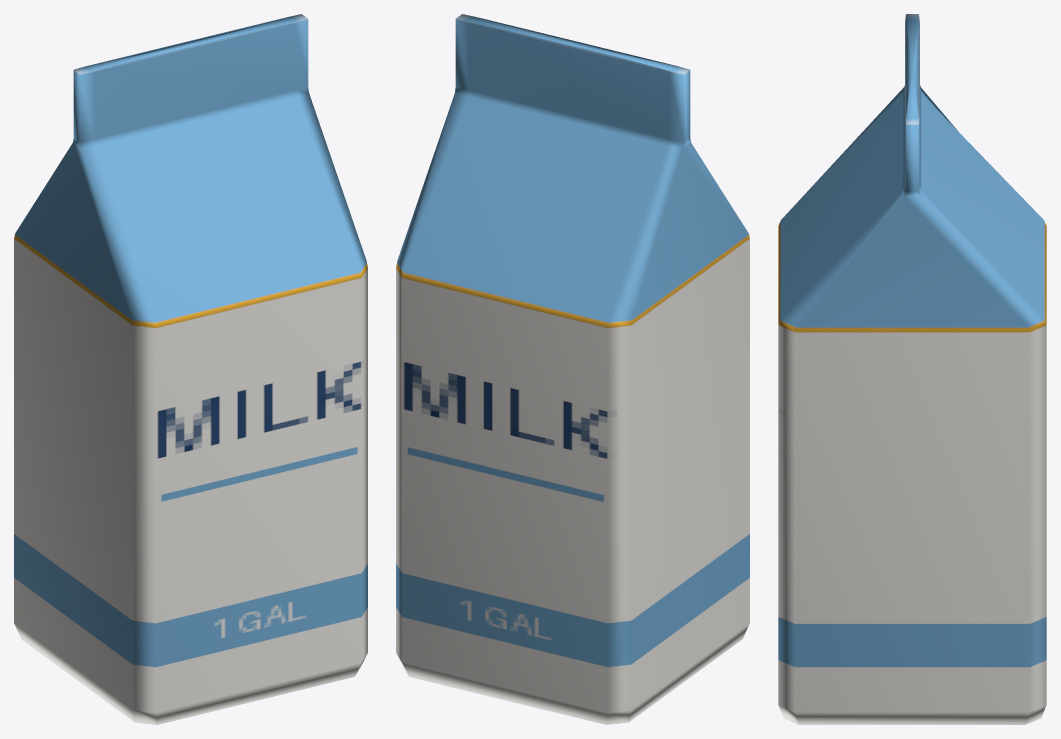
The model's file is milk_carton.obj.
3 renders of one model, left to right at view 1: azimuth 30°, elevation 25°; view 2: azimuth 150°, elevation 25°; view 3: azimuth 270°, elevation 25°, orthographic.
Visible parts, largest first — view 1: milk_carton; view 2: milk_carton; view 3: milk_carton.
Boxes of the visible parts, <box> form: milk_carton: <box>14,14,367,724</box>; milk_carton: <box>396,14,749,724</box>; milk_carton: <box>778,14,1046,724</box>.
Size of the model in its own units: 0.8 by 1.98 by 0.8.
Materials: 1 (1 with a texture image).
